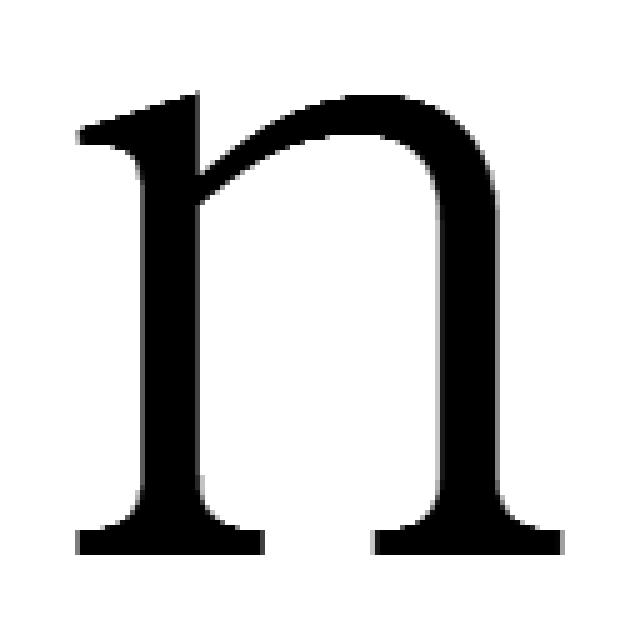N: (65, 80, 565, 560)
